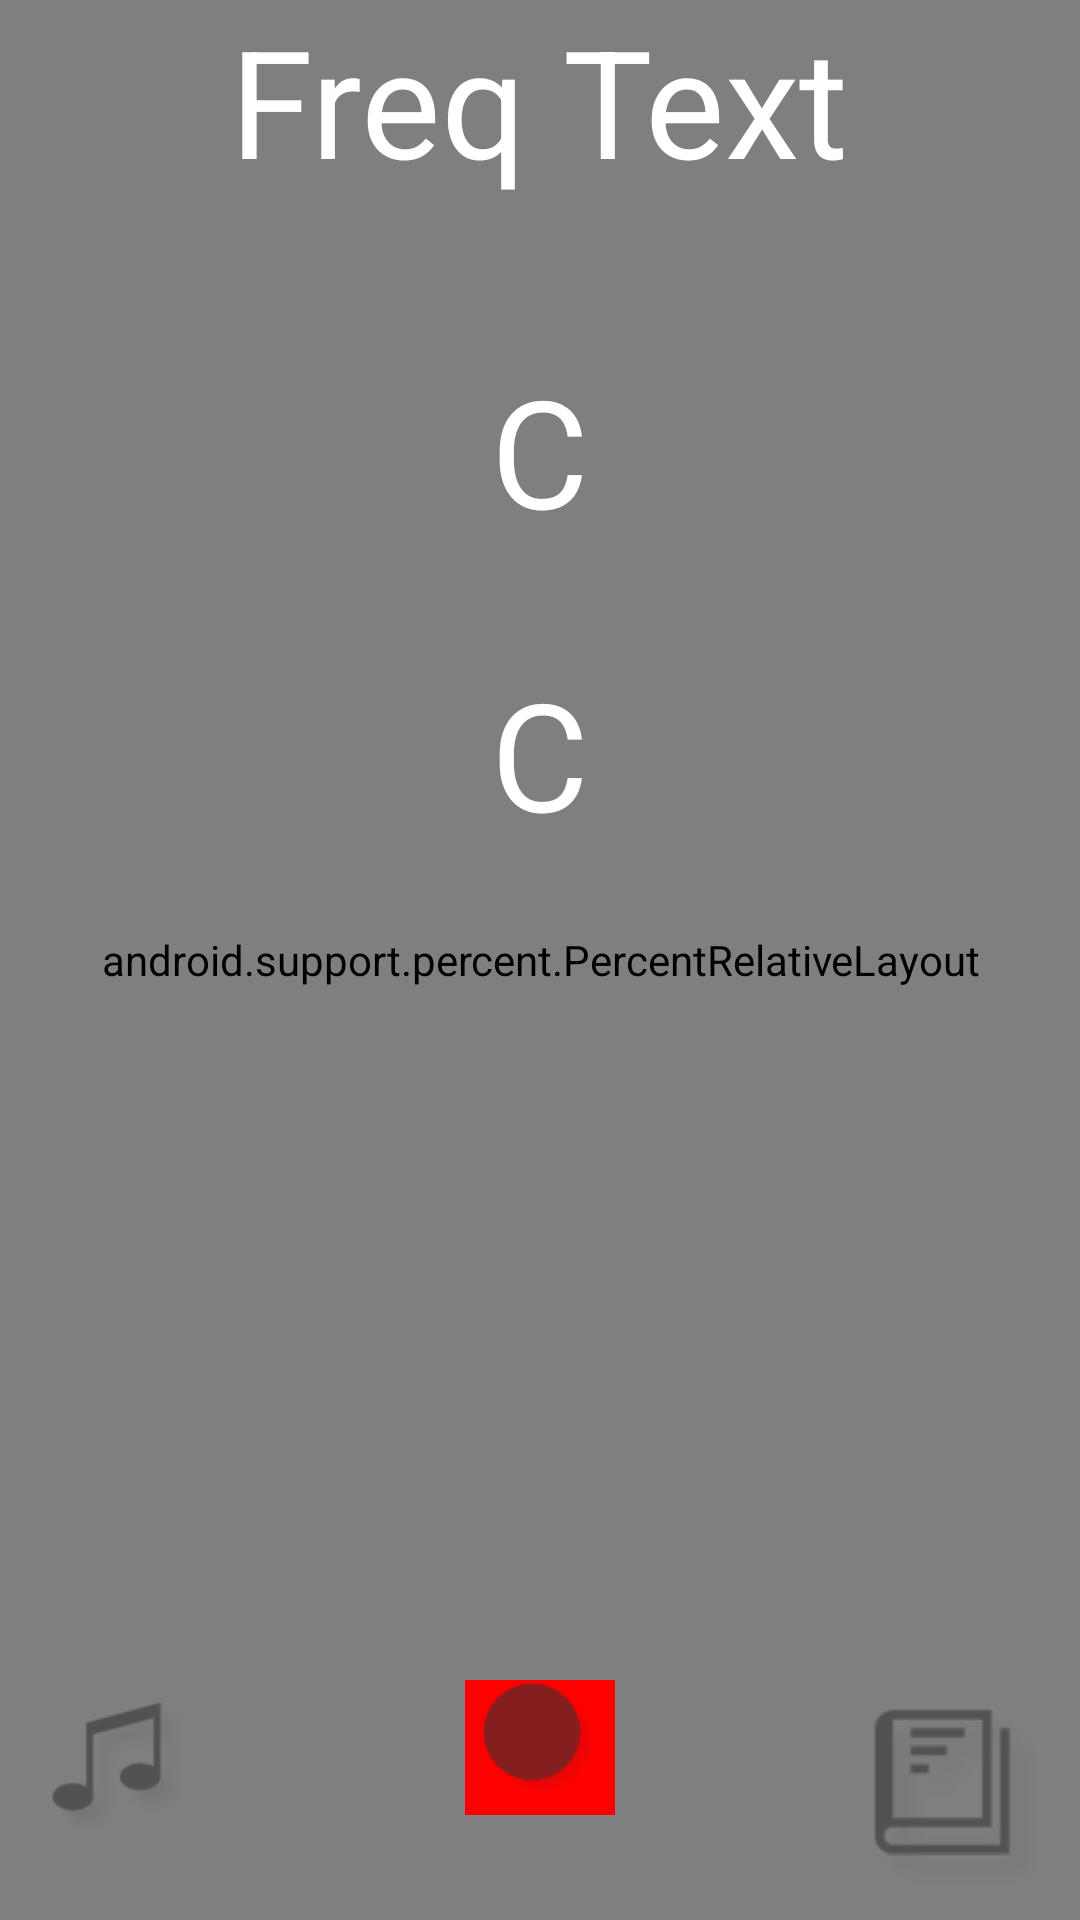

Icon click points for this 1080px x 1920px phone screenshot, format point (x, y):
music note: point (107, 1757)
